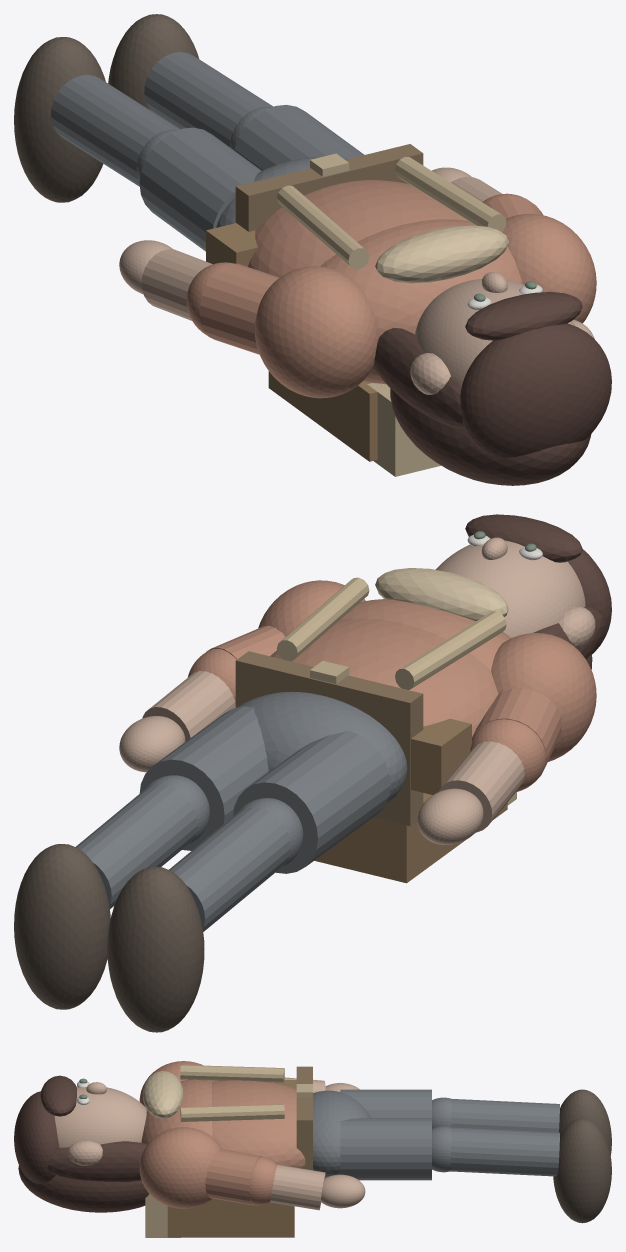
The model's file is Verdant_Reach_Female_Explorer.glb.
The picture shows the model from 3 angles, top to bottom: view 1: azimuth 30°, elevation 25°; view 2: azimuth 150°, elevation 25°; view 3: azimuth 270°, elevation 25°; orthographic projection. The views are drawn at different scales.
Parts seen in each view (by area): view 1: hair_cap, L_shoulder, torso, L_boot, L_thigh, L_lower_leg, upper_chest, R_lower_leg, long_hair_back, R_shoulder, neck_scarf, R_thigh (+19 smaller); view 2: L_boot, R_boot, L_thigh, torso, belt, L_lower_leg, R_thigh, R_lower_leg, L_shoulder, head, hips, backpack (+20 smaller); view 3: R_thigh, torso, R_shoulder, R_lower_leg, R_boot, backpack, head, long_hair_back, L_lower_leg, hair_cap, hips, long_hair_lock_1 (+17 smaller).
Part boxes in pixels (bbox=[...]): hair_cap: bbox=[460, 323, 611, 457]; L_shoulder: bbox=[255, 266, 378, 398]; torso: bbox=[248, 180, 467, 277]; L_boot: bbox=[14, 37, 105, 202]; L_thigh: bbox=[139, 127, 261, 251]; L_lower_leg: bbox=[51, 74, 179, 186]; upper_chest: bbox=[320, 219, 522, 383]; R_lower_leg: bbox=[144, 52, 272, 146]; long_hair_back: bbox=[390, 388, 591, 485]; R_shoulder: bbox=[502, 213, 596, 323]; neck_scarf: bbox=[375, 225, 508, 283]; R_thigh: bbox=[234, 104, 364, 170]; L_boot: bbox=[107, 866, 204, 1032]; R_boot: bbox=[14, 844, 110, 1009]; L_thigh: bbox=[233, 730, 390, 873]; torso: bbox=[270, 618, 498, 736]; belt: bbox=[235, 651, 423, 826]; L_lower_leg: bbox=[169, 807, 290, 931]; R_thigh: bbox=[139, 706, 268, 850]; R_lower_leg: bbox=[75, 784, 197, 908]; L_shoulder: bbox=[491, 633, 596, 761]; head: bbox=[435, 540, 585, 638]; hips: bbox=[237, 691, 407, 804]; backpack: bbox=[314, 793, 507, 883]; R_thigh: bbox=[340, 1118, 431, 1180]; torso: bbox=[212, 1080, 305, 1168]; R_shoulder: bbox=[139, 1127, 222, 1208]; R_lower_leg: bbox=[450, 1127, 559, 1176]; R_boot: bbox=[553, 1118, 611, 1223]; backpack: bbox=[167, 1198, 294, 1237]; head: bbox=[54, 1086, 146, 1147]; long_hair_back: bbox=[18, 1165, 149, 1212]; L_lower_leg: bbox=[450, 1098, 559, 1132]; hair_cap: bbox=[14, 1091, 59, 1183]; hips: bbox=[313, 1090, 370, 1177]; long_hair_lock_1: bbox=[48, 1141, 146, 1181].
Size of the model in its own units: 0.8644 by 0.515 by 2.03.
